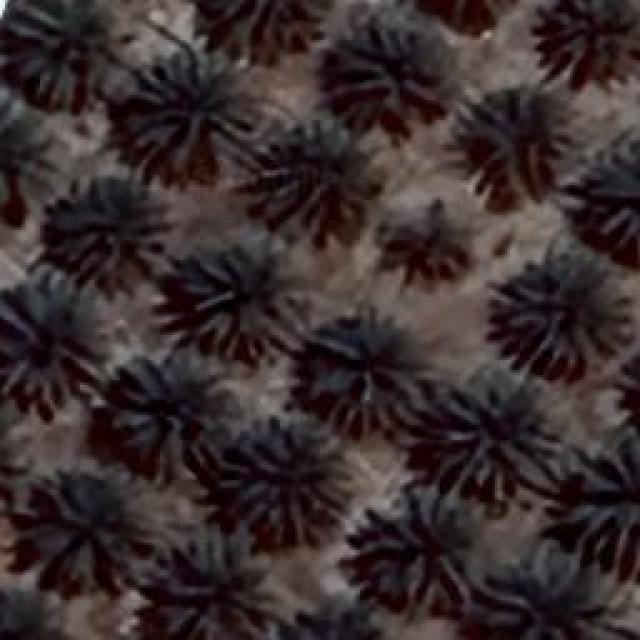PalmTree: (488, 242, 630, 380), (220, 410, 355, 548), (65, 30, 258, 124), (424, 367, 558, 495), (120, 50, 260, 170), (300, 312, 432, 438), (112, 350, 238, 480), (44, 170, 178, 290), (182, 238, 310, 360), (350, 484, 472, 608), (0, 277, 105, 415), (34, 464, 148, 588), (258, 110, 380, 225), (325, 17, 450, 125), (7, 2, 125, 108), (460, 88, 562, 208), (555, 440, 635, 565), (142, 562, 262, 640), (484, 565, 602, 640), (537, 0, 637, 72), (584, 132, 638, 250), (394, 208, 466, 276), (259, 606, 392, 640), (0, 398, 33, 523), (0, 582, 66, 640), (407, 0, 523, 30), (269, 617, 392, 640)
